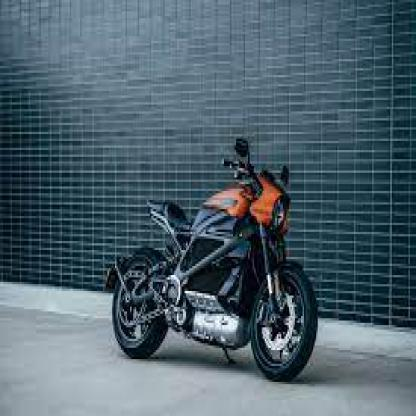bike: (101, 139, 327, 384)
